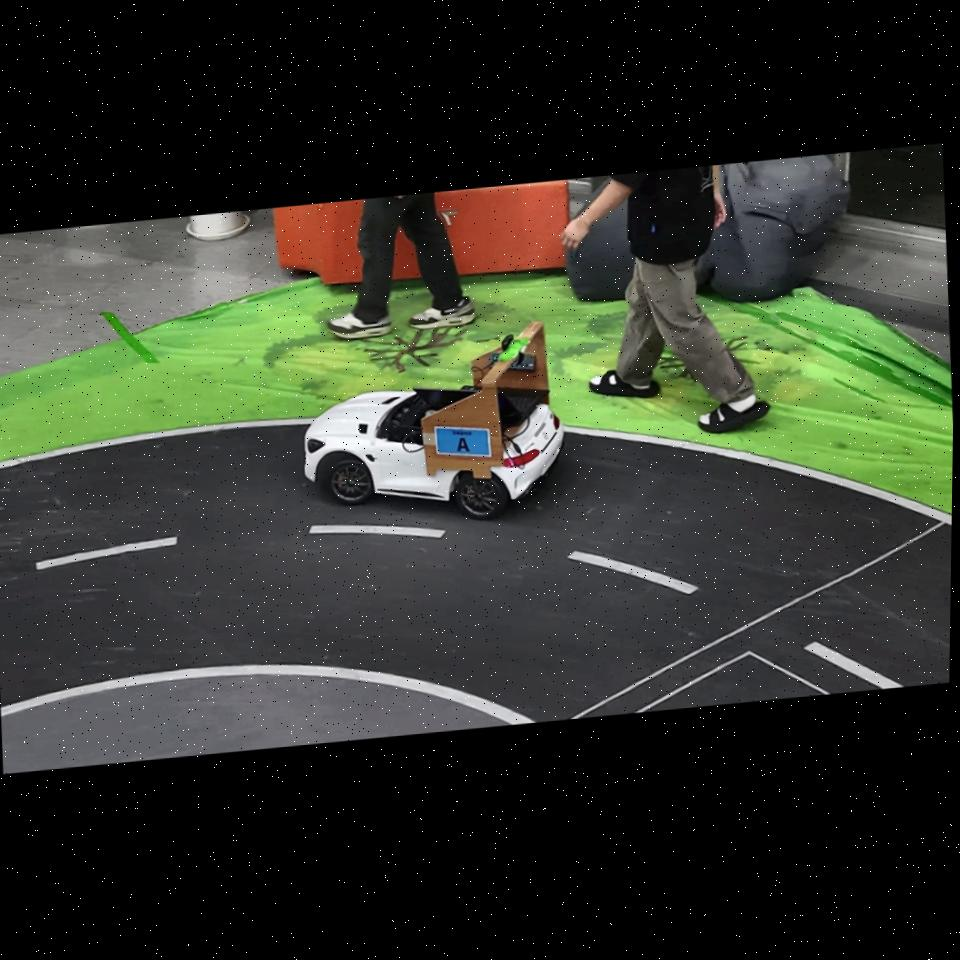broken_line: (567, 551, 698, 594), (803, 641, 905, 689), (35, 536, 178, 570), (308, 525, 446, 538)
